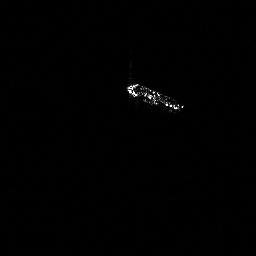ship: (122, 77, 187, 116)
